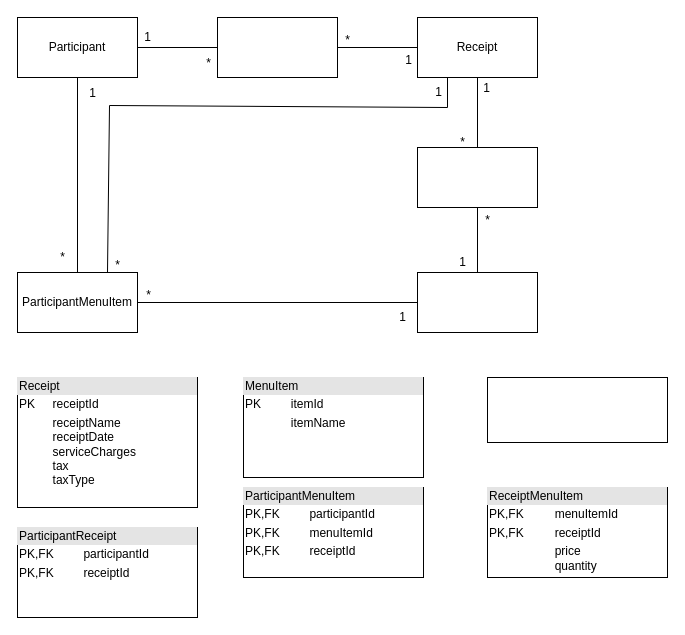
The diagram is 685 pixels wide and 635 high, and some of its shapes have lost their labels. Each missing label, with the centre of its shape:
"MenuItem" belongs at pixel 477 302.
"Participant PK participantId name" belongs at pixel 577 409.
"ParticipantReceipt" belongs at pixel 277 47.
"ReceiptMenuItem" belongs at pixel 477 177.
